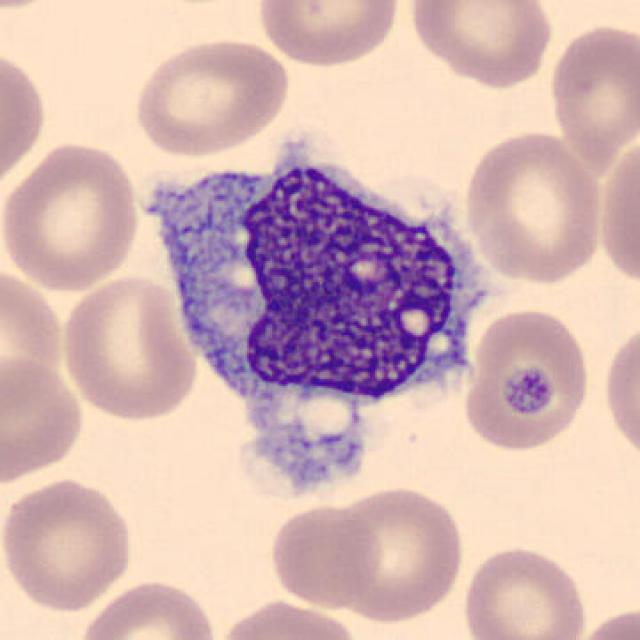Monocyte: (148, 127, 503, 485)
Platelets: (489, 363, 567, 420)
RBC: (460, 127, 608, 286), (0, 136, 144, 294), (57, 272, 199, 423), (326, 481, 468, 626), (128, 34, 293, 158), (0, 474, 137, 614), (462, 303, 596, 446), (406, 0, 556, 90), (457, 541, 592, 640), (265, 501, 386, 610), (546, 18, 638, 160), (0, 352, 87, 488), (252, 0, 406, 71), (0, 262, 68, 420), (74, 575, 220, 640), (0, 44, 52, 196), (594, 132, 640, 293), (213, 596, 364, 640), (599, 316, 640, 470), (570, 601, 640, 640)
